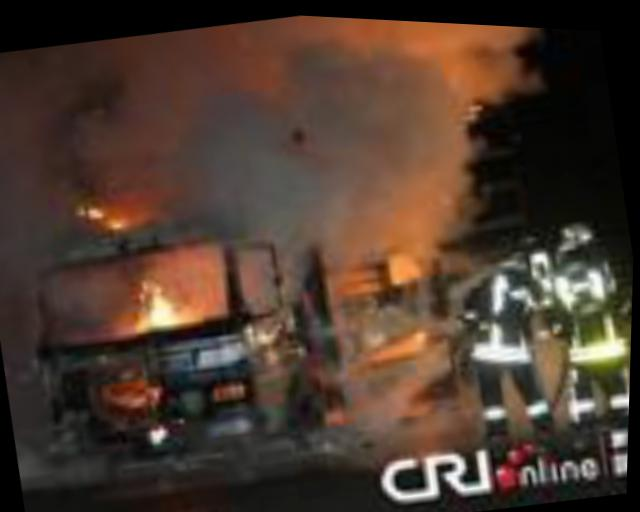fire: (72, 178, 209, 346)
